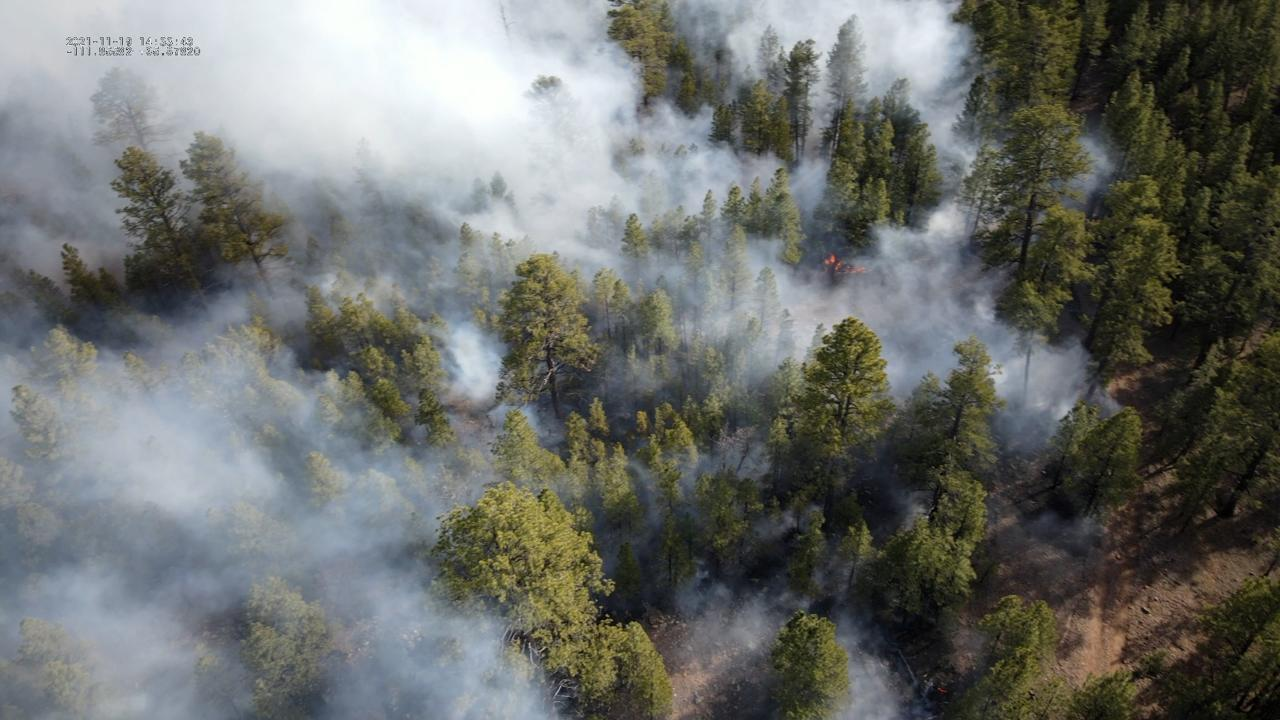fire: (824, 253, 866, 274)
smoke: (0, 0, 1128, 720)
